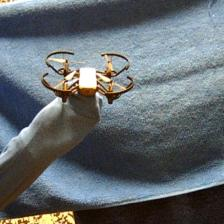drone: (40, 49, 134, 105)
